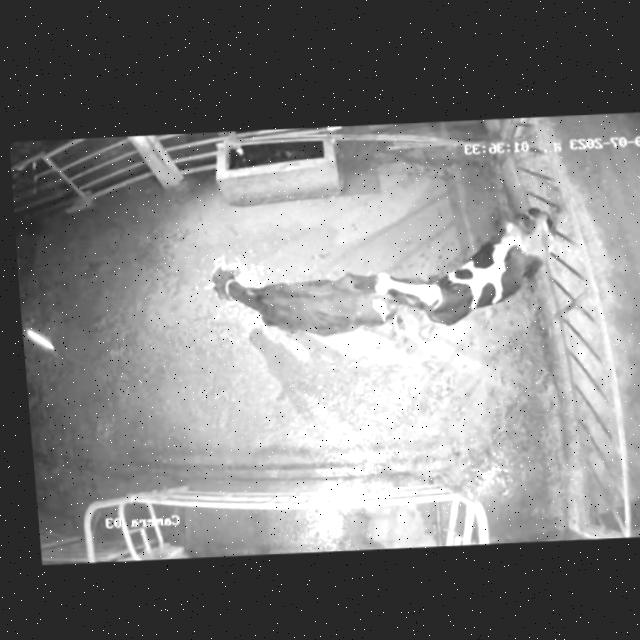propping: (355, 255, 460, 342)
stand: (175, 240, 405, 372)
